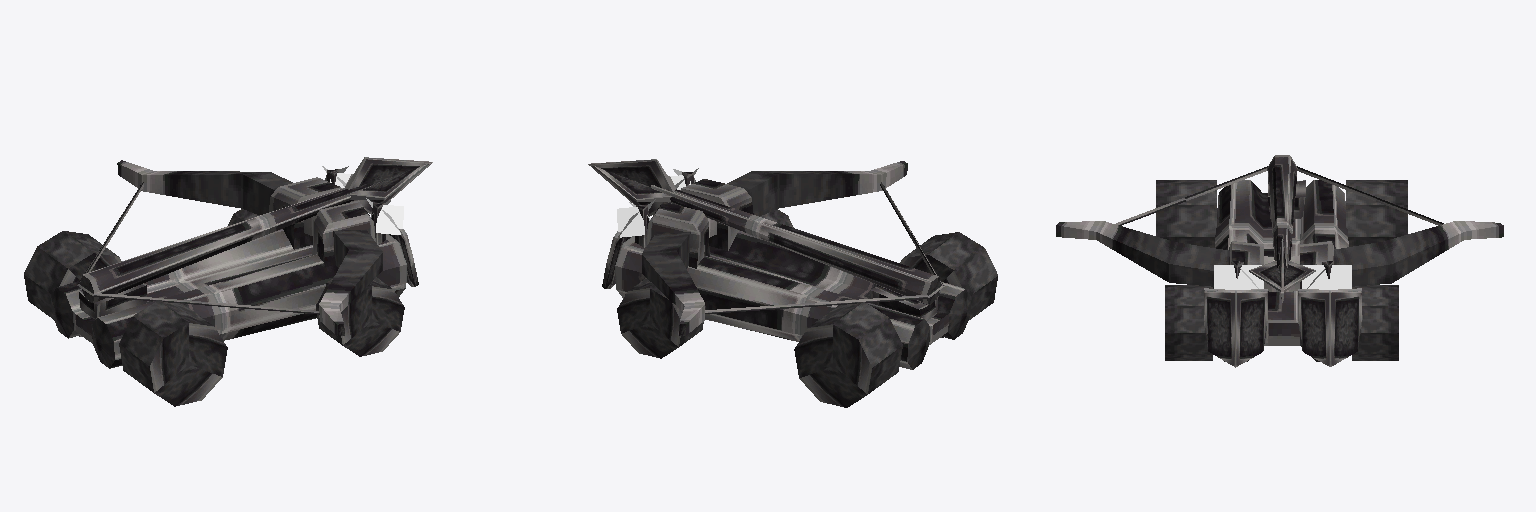
3 renders of one model, left to right at view 1: azimuth 30°, elevation 25°; view 2: azimuth 150°, elevation 25°; view 3: azimuth 270°, elevation 25°, orthographic.
Parts seen in each view (by area): view 1: world/azeroth/elwynn/passivedoodads/ballista/ballista.m2_Geoset_; view 2: world/azeroth/elwynn/passivedoodads/ballista/ballista.m2_Geoset_; view 3: world/azeroth/elwynn/passivedoodads/ballista/ballista.m2_Geoset_.
Boxes of the visible parts, box(x1,y1,x2,y2) form: world/azeroth/elwynn/passivedoodads/ballista/ballista.m2_Geoset_: box(24, 157, 432, 406); world/azeroth/elwynn/passivedoodads/ballista/ballista.m2_Geoset_: box(588, 159, 997, 407); world/azeroth/elwynn/passivedoodads/ballista/ballista.m2_Geoset_: box(1056, 155, 1503, 367).
Size of the model in its own units: 12.33 by 4.68 by 13.41.
2 materials, 1 textured.